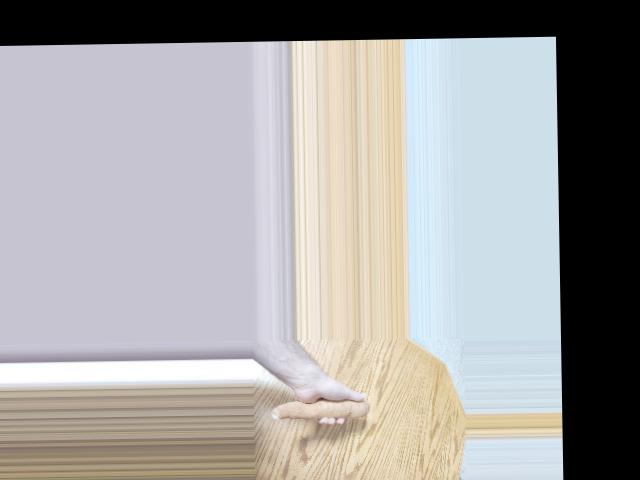sweet_potato: (269, 389, 371, 420)
